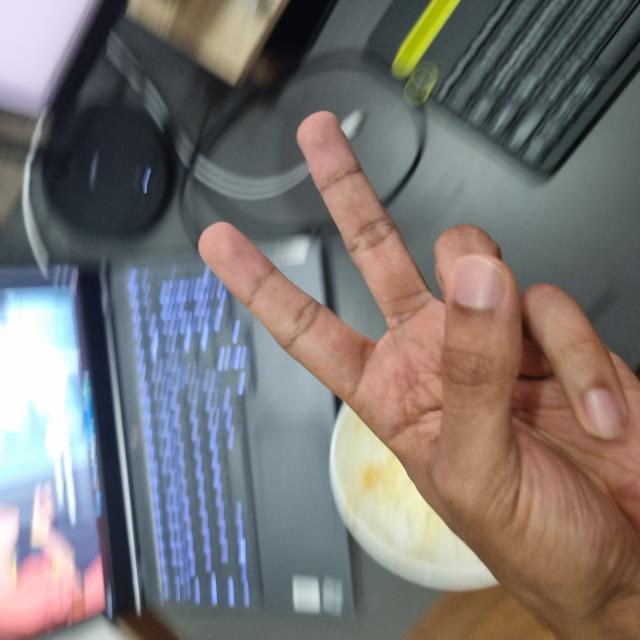Scissors: (52, 207, 518, 639)
